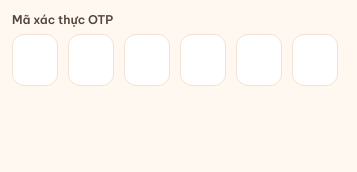
Test: OtpInput › trình duyệt tự điền cả mã vào ô đầu thì điền đủ các ô
Type "481927" into the field named "Chữ số 1" at (35, 60), box [12,34,58,86]
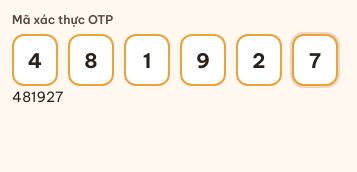
Check: the text with test id "value" reads "481927", box [12,88,63,106]
